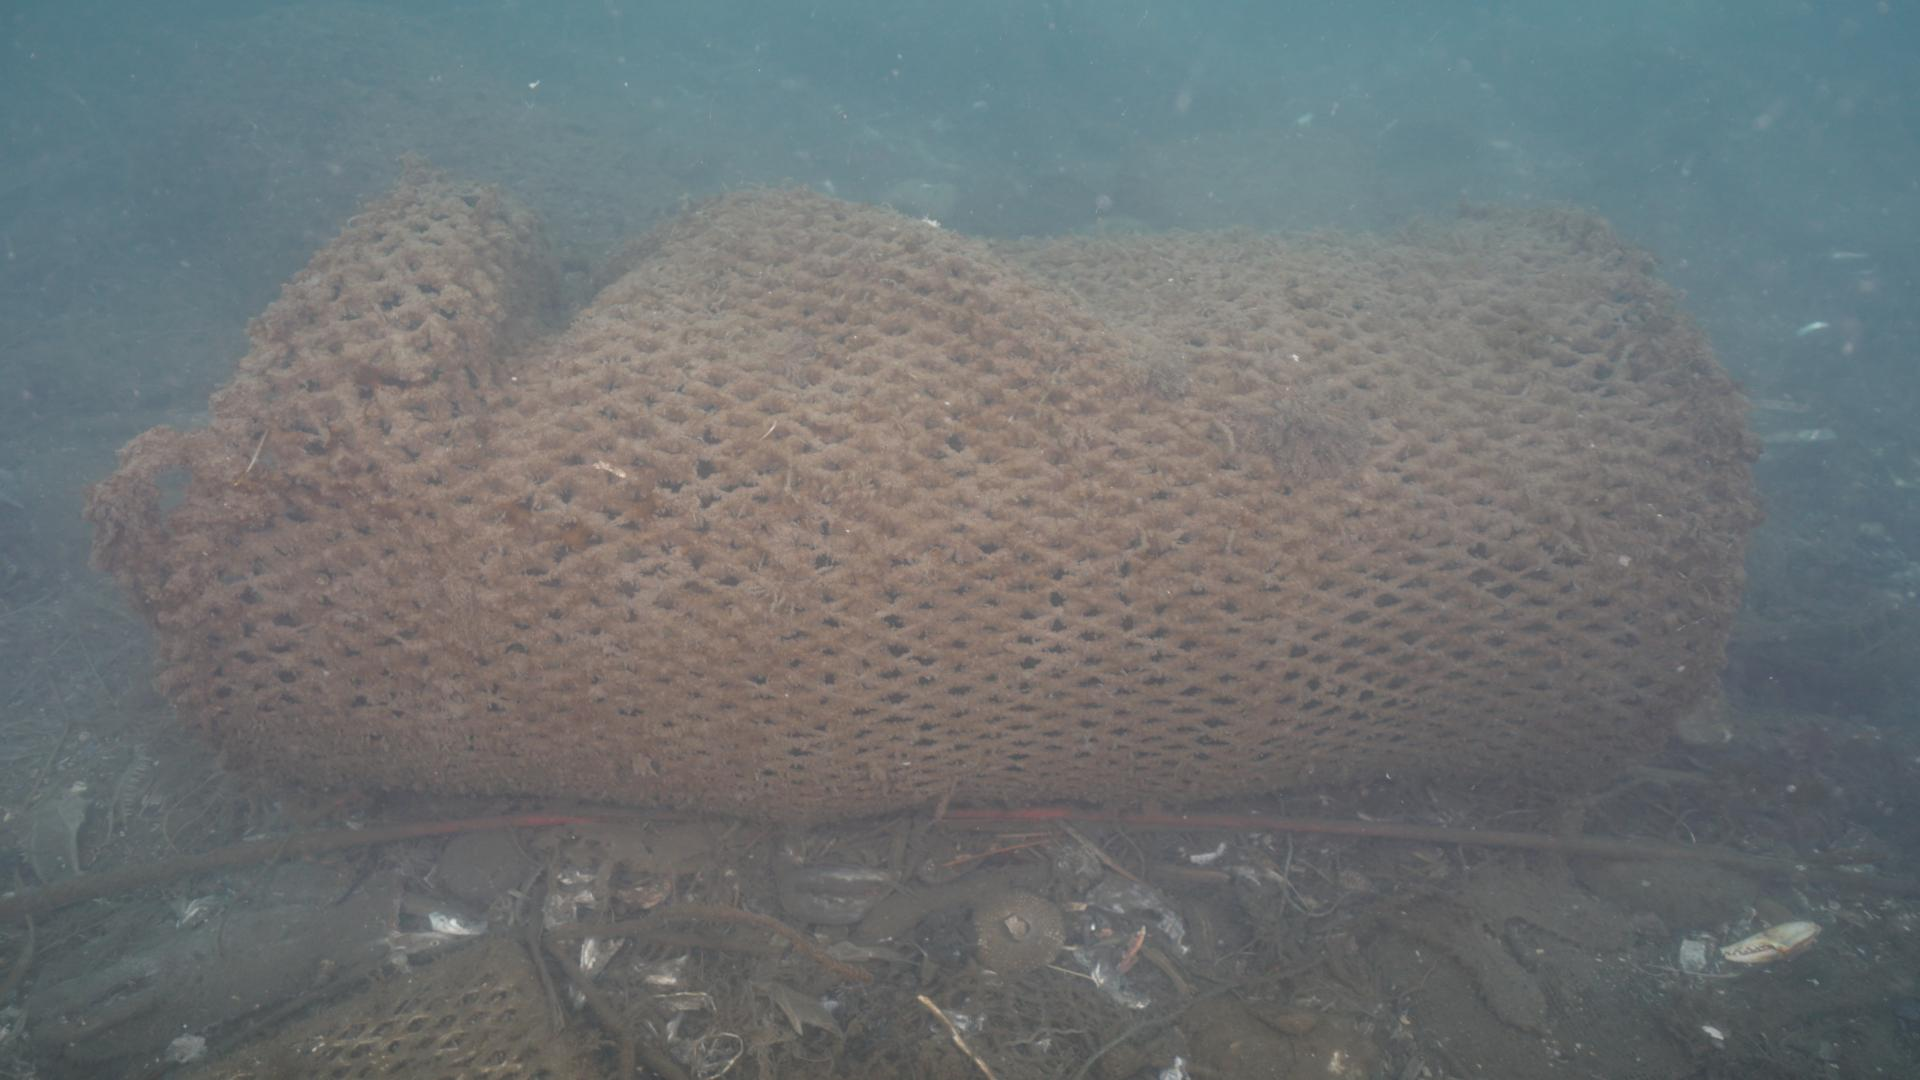spring fish trap: (70, 160, 1762, 829)
